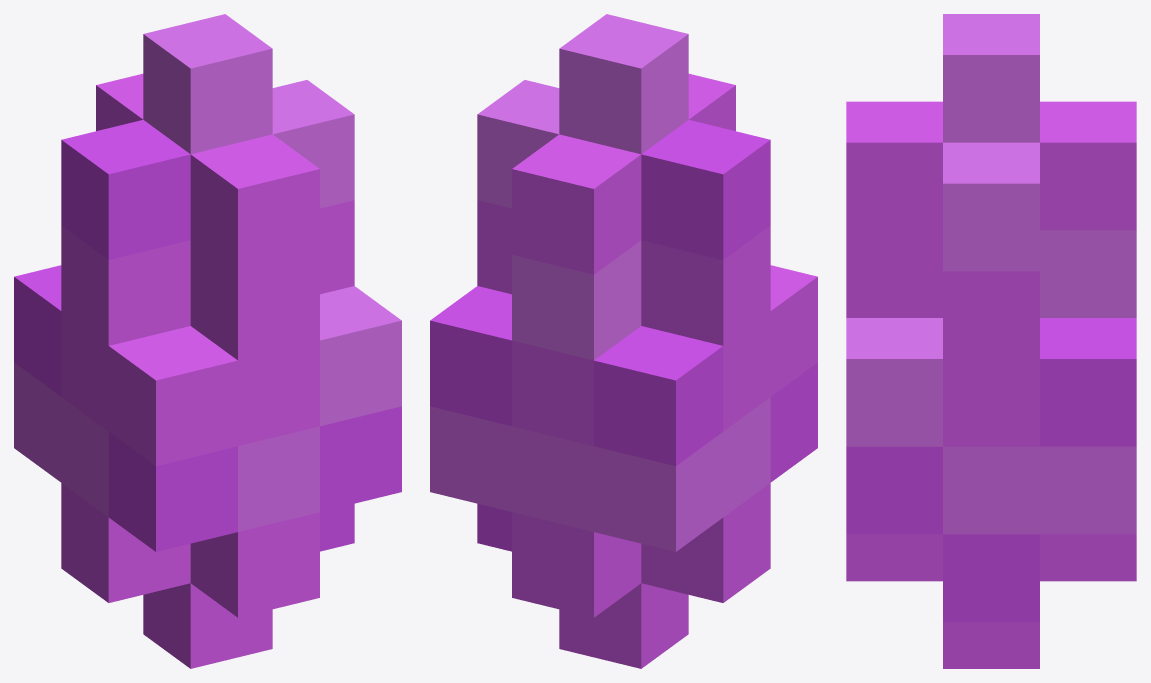
Rendered from Desert Mage Tower Crystal.obj.
3 renders of one model, left to right at view 1: azimuth 30°, elevation 25°; view 2: azimuth 150°, elevation 25°; view 3: azimuth 270°, elevation 25°, orthographic. The views are drawn at different scales.
Bounding box in the file's own units: 0.3 × 0.7 × 0.3.
1 material, 1 textured.
